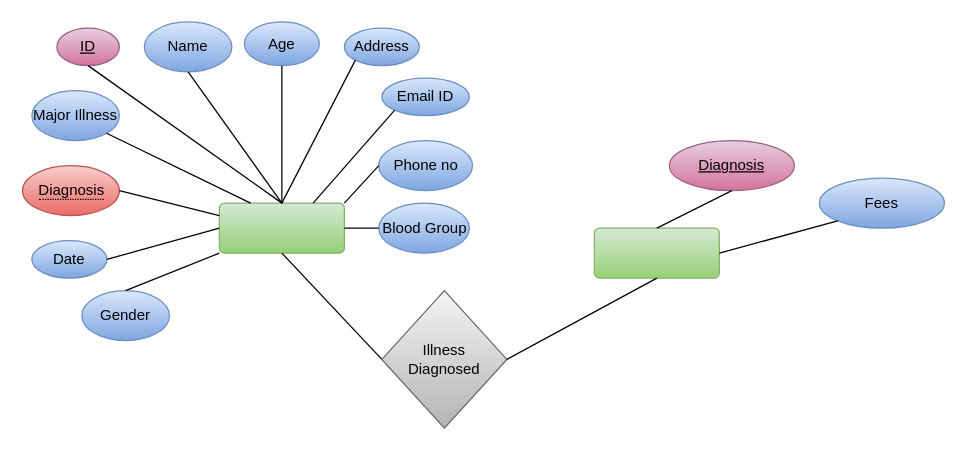
Some shapes in this 966 by 450 pixel diagram are drawn without their labels. Each missing label, with the centre of its shape:
"Diagnosis_Fees" belongs at (x=656, y=252).
"Patient" belongs at (x=281, y=227).
